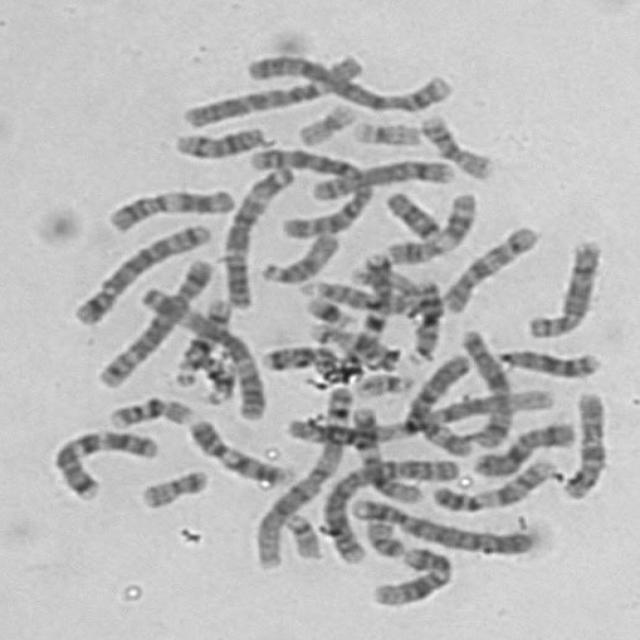A1: (244, 375, 357, 571), (276, 382, 558, 447)
A2: (311, 449, 464, 566), (240, 139, 374, 240)
A3: (130, 278, 272, 420), (214, 158, 298, 310)
B4: (239, 46, 458, 114), (344, 490, 534, 558)
B5: (88, 249, 219, 389), (65, 214, 215, 326)
C10: (432, 217, 542, 316), (554, 385, 610, 501)
C11: (378, 183, 480, 266), (96, 179, 238, 234)
C12: (344, 400, 426, 506), (364, 538, 456, 608)
C6: (172, 47, 368, 130), (401, 348, 480, 458)
C7: (43, 421, 163, 502), (332, 247, 394, 369)
C8: (518, 231, 605, 340), (302, 150, 456, 202)
C9: (180, 411, 297, 488), (424, 450, 560, 514)
D13: (487, 340, 602, 381), (400, 272, 445, 364)
D14: (170, 291, 236, 387), (165, 118, 270, 160)
D15: (292, 272, 421, 316), (251, 226, 342, 285)
E16: (411, 106, 497, 181), (99, 389, 196, 430)
E17: (300, 316, 400, 372), (342, 257, 421, 318)
E18: (377, 183, 444, 242), (252, 337, 340, 373)
F19: (289, 94, 361, 148), (343, 112, 424, 148)
F20: (132, 461, 211, 511), (357, 512, 407, 558)
G21: (296, 287, 359, 330), (192, 350, 239, 404)
G22: (276, 503, 324, 562), (347, 366, 417, 400)
X: (452, 321, 514, 450), (464, 413, 578, 480)
